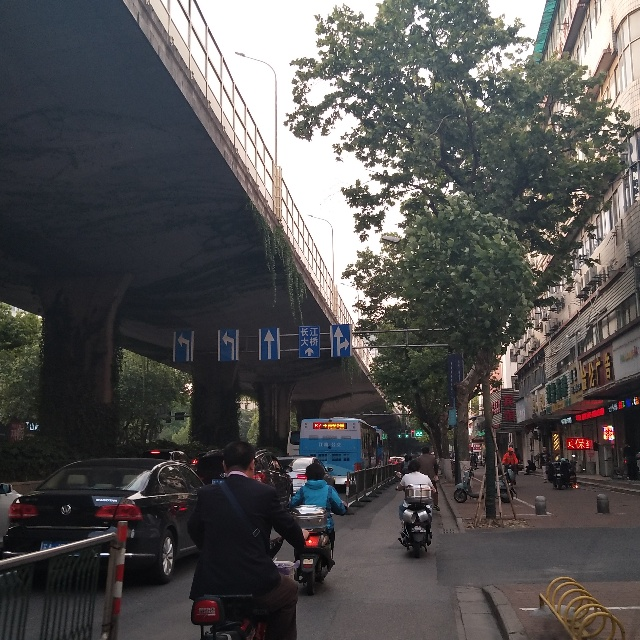left: (174, 332, 193, 361), (219, 331, 236, 362)
straight: (259, 329, 279, 360)
